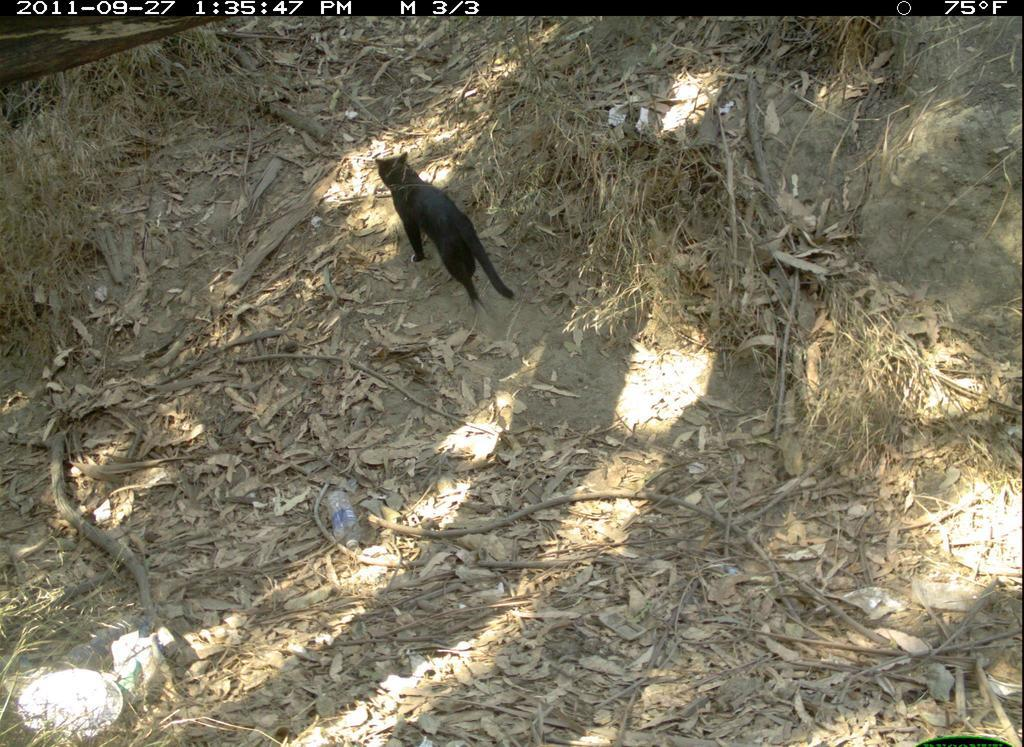cat: (363, 145, 528, 322)
